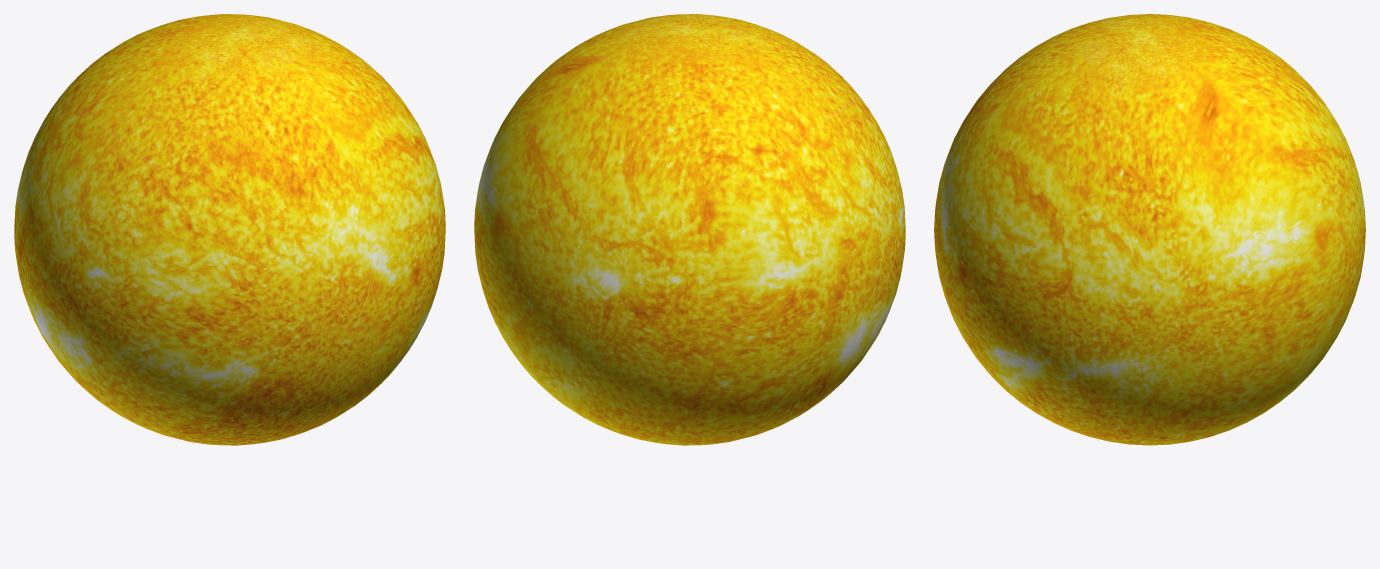
The model's file is SOL_NASA_10GLB.glb.
3 renders of one model, left to right at view 1: azimuth 30°, elevation 25°; view 2: azimuth 150°, elevation 25°; view 3: azimuth 270°, elevation 25°, orthographic.
Parts seen in each view (by area): view 1: Cube.001; view 2: Cube.001; view 3: Cube.001.
Boxes of the visible parts, x1,y1,x2,y2 form: Cube.001: [14, 14, 445, 445]; Cube.001: [474, 14, 905, 445]; Cube.001: [934, 14, 1365, 445].
Bounding box in the file's own units: 329 × 438 × 329.
Materials: 1 (1 with a texture image).
